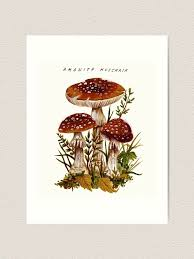Amanita muscaria: (64, 79, 128, 125), (54, 112, 96, 176), (100, 114, 134, 178)
